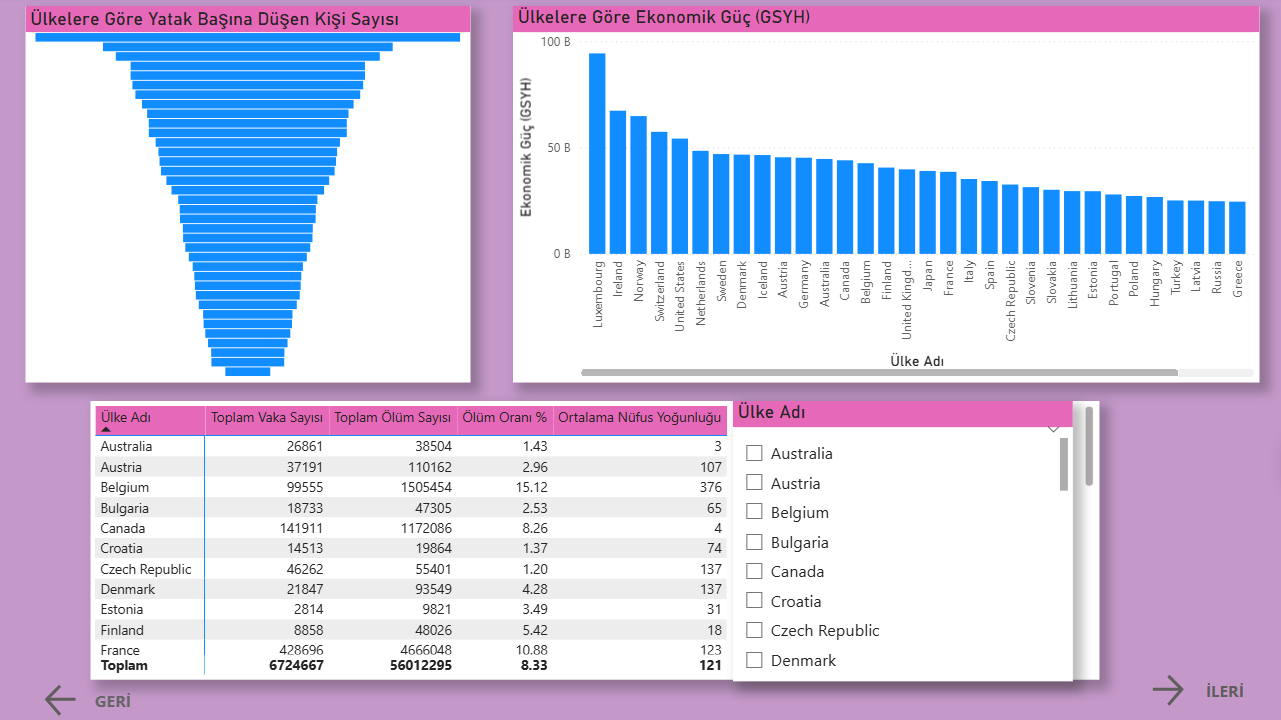

The page's visual inventory and layout, read from the dashboard file:
{"tool":"powerbi","page":{"name":"Kapasite ve Sayısal Analiz","canvas":[1280,720],"ordinal":1},"visuals":[{"type":"funnel","title":"Ülkelere Göre Yatak Başına Düşen Kişi Sayısı","fields":{"Y":["owid-covid-data.Yatak Başına Kişi"],"Category":["owid-covid-data.Ülke Adı"]},"box":[41.7,9.8,436.8,369.3],"z":0},{"type":"clusteredColumnChart","title":"Ülkelere  Göre Ekonomik Güç (GSYH)","fields":{"Y":["owid-covid-data.Ekonomik Güç (GSYH)"],"Category":["owid-covid-data.Ülke Adı"]},"box":[520.2,9.8,732.5,369.3],"z":1000},{"type":"pivotTable","fields":{"Rows":["owid-covid-data.Ülke Adı"],"Values":["owid-covid-data.Toplam Vaka Ölçüsü","owid-covid-data.Toplam Ölüm Ölçüsü","owid-covid-data.Ölüm Oranı %","owid-covid-data.Ortalama Nüfus Yoğunluğu"]},"box":[105.5,397.5,990.2,273.6],"z":2000},{"type":"slicer","title":"Ülke Adı","fields":{"Values":["owid-covid-data.Ülke Adı"]},"box":[736.2,397.5,333.7,274.8],"z":3000},{"type":"actionButton","box":[56.4,671.2,142.3,40.5],"z":4000},{"type":"actionButton","box":[1142.3,661.4,99.4,40.5],"z":5000}]}

Visuals, with their boxes in screenshot pixels (x1, y1, x2, y2), scaled from the page's 1280x720 canvas onto the 1281x720 screenshot:
"Ülkelere Göre Yatak Başına Düşen Kişi Sayısı" funnel: x1=42, y1=10, x2=479, y2=379
"Ülkelere  Göre Ekonomik Güç (GSYH)" clusteredColumnChart: x1=521, y1=10, x2=1254, y2=379
pivotTable - owid-covid-data.Ülke Adı x owid-covid-data.Toplam Vaka Ölçüsü: x1=106, y1=398, x2=1097, y2=671
"Ülke Adı" slicer: x1=737, y1=398, x2=1071, y2=672
actionButton: x1=56, y1=671, x2=199, y2=712
actionButton: x1=1143, y1=661, x2=1243, y2=702
